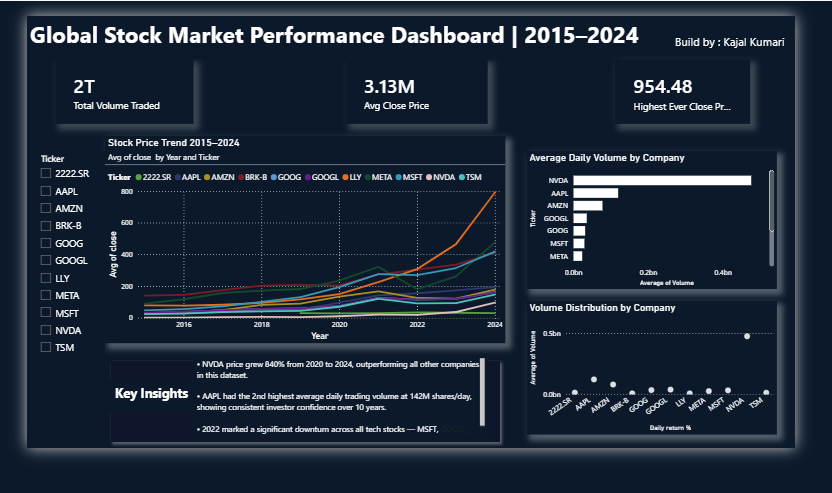

The page's visual inventory and layout, read from the dashboard file:
{"tool":"powerbi","page":{"name":"Page 1","canvas":[1280,720],"ordinal":0},"visuals":[{"type":"cardVisual","fields":{"Data":["Sum(StockData.Volume)"]},"box":[10,65,230,108],"z":0},{"type":"cardVisual","fields":{"Data":["Sum(StockData.Close)"]},"box":[430,66,230,108],"z":1000},{"type":"lineChart","title":"Stock Price Trend 2015–2024","fields":{"Category":["StockData.Date.Variation.Date Hierarchy.Year","StockData.Date.Variation.Date Hierarchy.Quarter","StockData.Date.Variation.Date Hierarchy.Month","StockData.Date.Variation.Date Hierarchy.Day"],"Y":["Avg(StockData.Close)"],"Series":["StockData.Ticker"]},"box":[126,194,672,352],"z":2000},{"type":"clusteredBarChart","title":"Average Daily Volume by Company","fields":{"Category":["StockData.Ticker"],"Y":["Avg(StockData.Volume)"]},"box":[834,198,426,228],"z":3000},{"type":"scatterChart","title":"Volume Distribution by Company","fields":{"Y":["Avg(StockData.Volume)"],"X":["StockData.Ticker"]},"box":[848,502,400,200],"z":4000},{"type":"slicer","fields":{"Values":["StockData.Ticker"]},"box":[10,225,120,362.5],"z":5000},{"type":"textbox","box":[10,10,1250,62.5],"z":6000},{"type":"cardVisual","fields":{"Data":["Max(StockData.Close)"]},"box":[798,66,232,108],"z":7000},{"type":"textbox","box":[1076,54,204,36],"z":8000},{"type":"shape","box":[146,546,628,174],"z":8002},{"type":"textbox","box":[170,586,140,48],"z":8003},{"type":"textbox","box":[302,565,434,137],"z":8004}]}

Visuals, with their boxes on the page's 1280x720 design canvas (x1, y1, x2, y2). These are canvas units, not pixel positions in the 832x493 screenshot, which may show the page scaled, cropped or inside an application window:
cardVisual - Sum(StockData.Volume): box(10, 65, 240, 173)
cardVisual - Sum(StockData.Close): box(430, 66, 660, 174)
"Stock Price Trend 2015–2024" lineChart: box(126, 194, 798, 546)
"Average Daily Volume by Company" clusteredBarChart: box(834, 198, 1260, 426)
"Volume Distribution by Company" scatterChart: box(848, 502, 1248, 702)
slicer - StockData.Ticker: box(10, 225, 130, 588)
textbox: box(10, 10, 1260, 72)
cardVisual - Max(StockData.Close): box(798, 66, 1030, 174)
textbox: box(1076, 54, 1280, 90)
shape: box(146, 546, 774, 720)
textbox: box(170, 586, 310, 634)
textbox: box(302, 565, 736, 702)
